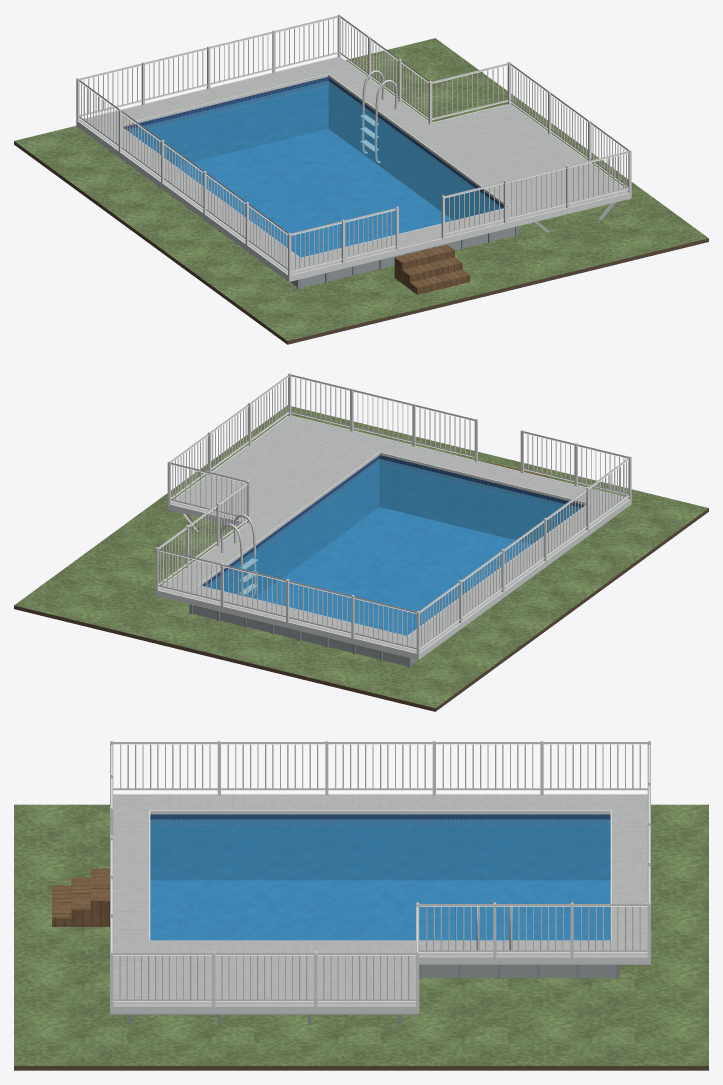
The model's file is kayak-pool-16x24-gray-l-rec-fence.075b345bf2.glb.
3 views of the same model, one above another, from view 1: azimuth 30°, elevation 25°; view 2: azimuth 150°, elevation 25°; view 3: azimuth 270°, elevation 25° (orthographic). The views are drawn at different scales.
Visible parts, largest first — view 1: ground, water, deck, fence, liner_floor, liner_wall, fascia, soil, steps, wall, steel; view 2: ground, water, deck, fence, liner_floor, liner_wall, fascia, soil, wall, steel; view 3: ground, water, deck, liner_wall, liner_floor, fence, fascia, soil, steps, wall, stud.
Boxes of the visible parts, left/top/right/bottom form: ground: left=14, top=38, right=708, bottom=340; water: left=127, top=80, right=502, bottom=257; deck: left=79, top=57, right=628, bottom=274; fence: left=76, top=14, right=631, bottom=275; liner_floor: left=176, top=129, right=453, bottom=257; liner_wall: left=122, top=77, right=503, bottom=220; fascia: left=76, top=56, right=631, bottom=281; soil: left=14, top=141, right=708, bottom=344; steps: left=394, top=244, right=469, bottom=294; wall: left=290, top=227, right=515, bottom=287; steel: left=360, top=70, right=397, bottom=163; ground: left=14, top=405, right=708, bottom=708; water: left=205, top=459, right=580, bottom=635; deck: left=158, top=416, right=628, bottom=652; fence: left=155, top=373, right=631, bottom=654; liner_floor: left=254, top=507, right=531, bottom=635; liner_wall: left=202, top=455, right=585, bottom=598; fascia: left=155, top=415, right=631, bottom=659; soil: left=14, top=508, right=708, bottom=711; wall: left=192, top=605, right=417, bottom=665; steel: left=220, top=514, right=257, bottom=597; ground: left=14, top=804, right=708, bottom=1065; water: left=150, top=819, right=610, bottom=940; deck: left=113, top=794, right=647, bottom=1005; liner_wall: left=150, top=814, right=610, bottom=880; liner_floor: left=150, top=880, right=610, bottom=940; fence: left=110, top=740, right=650, bottom=1006; fascia: left=110, top=794, right=650, bottom=1013; soil: left=14, top=1066, right=708, bottom=1070; steps: left=52, top=868, right=109, bottom=926; wall: left=421, top=964, right=615, bottom=977; stud: left=111, top=1013, right=417, bottom=1024.
Bounding box in the file's own units: 9.75 × 2.15 × 10.97.
Materials: 13 (5 with a texture image).
